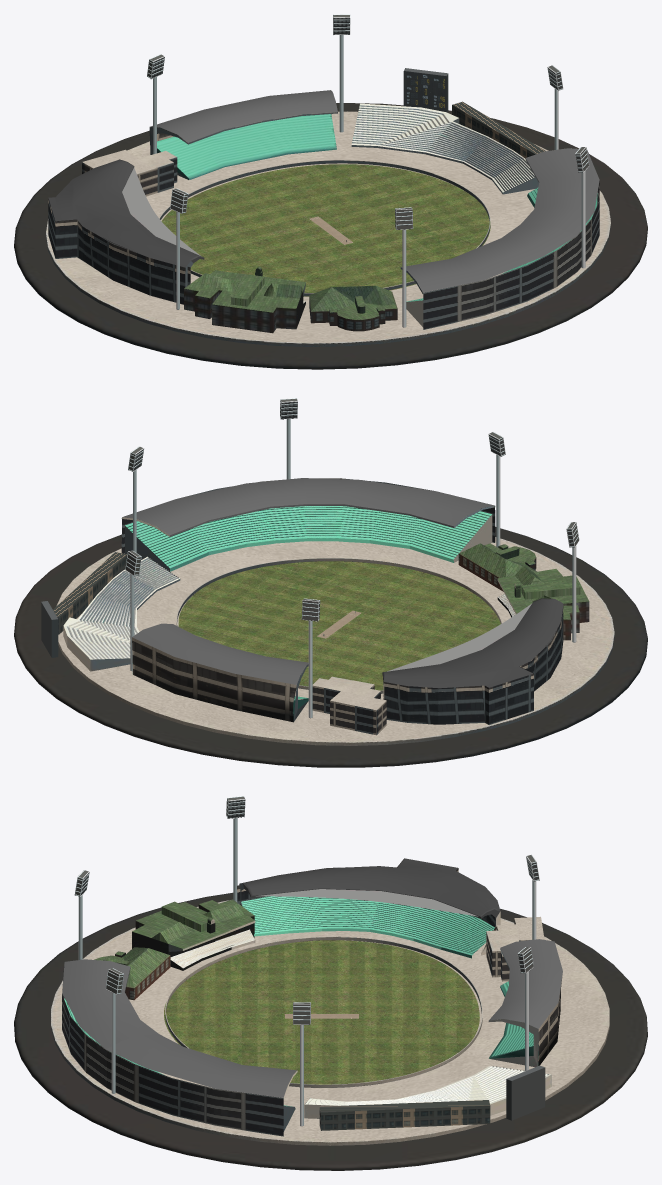
3 views of the same model, one above another, from view 1: azimuth 30°, elevation 25°; view 2: azimuth 150°, elevation 25°; view 3: azimuth 270°, elevation 25° (orthographic). The views are drawn at different scales.
Visible parts, largest first — view 1: Circle002, Cylinder031, pCylinder9, polySurface64, polySurface53, polySurface66 Object004, polySurface40, STPES, polySurface15, polySurface66 Object004.001, TOP_BULDING, textureEditorIsolateSelectSet polySurface62 (+13 smaller); view 2: Circle002, Cylinder031, pCylinder9, polySurface60, polySurface64, polySurface15, STPES, Object004 polySurface67 polySurface65, polySurface53, polySurface66 Object004.001, Building_Wall1, textureEditorIsolateSelectSet polySurface62 (+14 smaller); view 3: Circle002, Cylinder031, pCylinder9, polySurface64, polySurface32, polySurface40, STPES, polySurface59, polySurface66 Object004.001, textureEditorIsolateSelectSet polySurface62, polySurface53, polySurface62 (+14 smaller).
Boxes of the visible parts, bbox=[...] form: Circle002: bbox=[161, 164, 490, 296]; Cylinder031: bbox=[14, 103, 647, 369]; pCylinder9: bbox=[46, 111, 610, 346]; polySurface64: bbox=[401, 148, 599, 292]; polySurface53: bbox=[351, 103, 535, 192]; polySurface66 Object004: bbox=[149, 91, 337, 179]; polySurface40: bbox=[423, 152, 599, 329]; STPES: bbox=[48, 159, 204, 267]; polySurface15: bbox=[48, 198, 185, 304]; polySurface66 Object004.001: bbox=[150, 90, 337, 142]; TOP_BULDING: bbox=[309, 285, 397, 331]; textureEditorIsolateSelectSet polySurface62: bbox=[184, 270, 305, 312]; Circle002: bbox=[178, 561, 500, 690]; Cylinder031: bbox=[14, 527, 647, 767]; pCylinder9: bbox=[56, 541, 614, 745]; polySurface60: bbox=[125, 506, 491, 571]; polySurface64: bbox=[122, 478, 493, 536]; polySurface15: bbox=[384, 606, 563, 724]; STPES: bbox=[382, 598, 563, 688]; Object004 polySurface67 polySurface65: bbox=[132, 637, 296, 722]; polySurface53: bbox=[63, 556, 179, 659]; polySurface66 Object004.001: bbox=[132, 623, 308, 684]; Building_Wall1: bbox=[312, 676, 386, 735]; textureEditorIsolateSelectSet polySurface62: bbox=[497, 565, 589, 619]; Circle002: bbox=[164, 940, 479, 1084]; Cylinder031: bbox=[14, 892, 647, 1170]; pCylinder9: bbox=[51, 900, 609, 1145]; polySurface64: bbox=[62, 959, 296, 1097]; polySurface32: bbox=[241, 896, 494, 958]; polySurface40: bbox=[62, 966, 283, 1136]; STPES: bbox=[242, 858, 500, 918]; polySurface59: bbox=[319, 1100, 490, 1130]; polySurface66 Object004.001: bbox=[489, 939, 562, 1028]; textureEditorIsolateSelectSet polySurface62: bbox=[132, 899, 254, 948]; polySurface53: bbox=[304, 1066, 550, 1105]; polySurface62: bbox=[132, 904, 255, 970].
Size of the model in its own units: 290 by 63.81 by 276.
9 materials, 7 textured.
